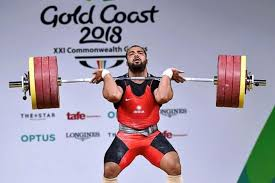Indian_Male: (122, 45, 154, 75)
